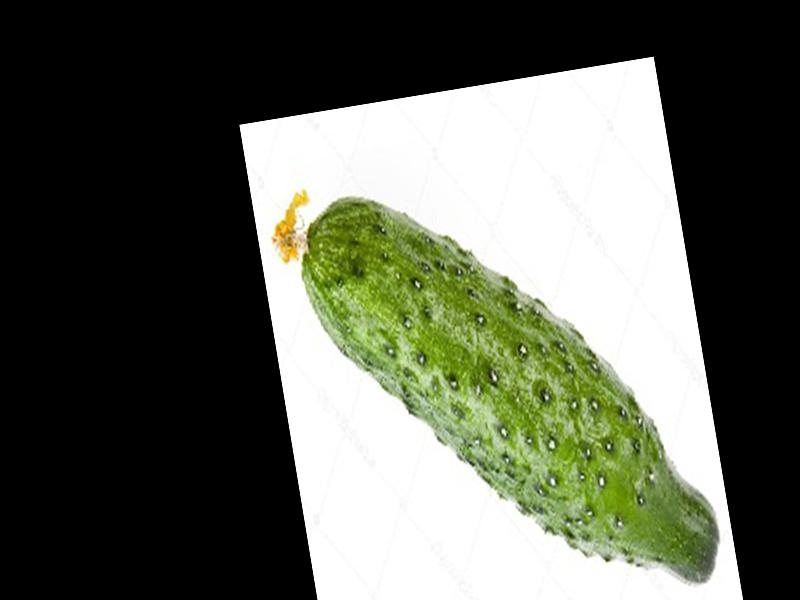Cucumber: (266, 134, 724, 600)
